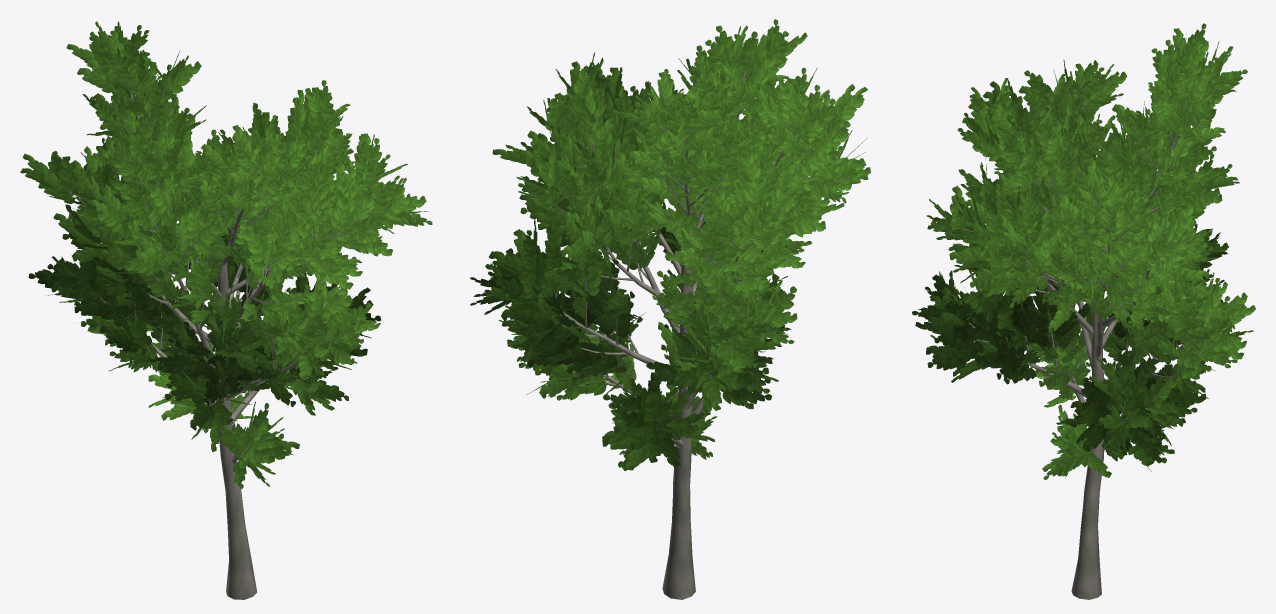
The model's file is beech.glb.
3 views of the same model, side by side, from view 1: azimuth 30°, elevation 25°; view 2: azimuth 150°, elevation 25°; view 3: azimuth 270°, elevation 25° (orthographic). The views are drawn at different scales.
Visible parts, largest first — view 1: beech; view 2: beech; view 3: beech.
Boxes of the visible parts, bbox=[...] form: beech: bbox=[20, 21, 432, 599]; beech: bbox=[470, 19, 870, 599]; beech: bbox=[912, 23, 1255, 599].
Bounding box in the file's own units: 11.47 × 18.47 × 11.14.
2 materials, 2 textured.
